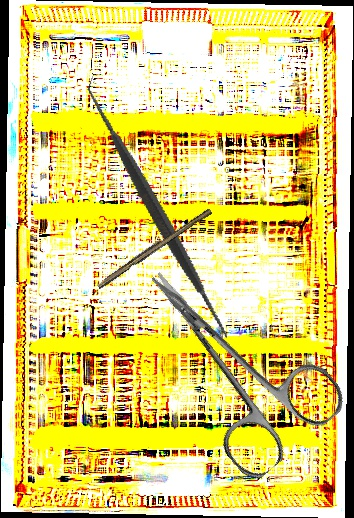Iris Scissors: (109, 230, 352, 486)
Scalpel Handle: (95, 204, 213, 292)
Spatula Surgical: (17, 74, 298, 350)
